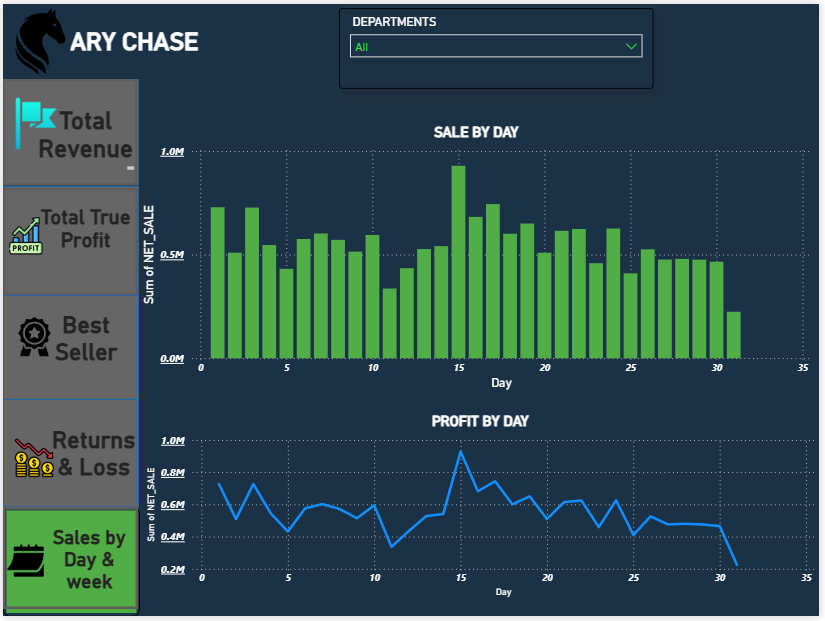

This screenshot's page, from the dashboard's own definition file:
{"tool":"powerbi","page":{"name":"SALES DAY AND WEKK","canvas":[960,720],"ordinal":4},"visuals":[{"type":"image","box":[0,0,88.4,88.4],"z":0},{"type":"textbox","title":"ARY CHASE","box":[74.6,27.6,168.8,34.4],"z":1000},{"type":"shape","box":[0,591.2,161.2,128.8],"z":2000},{"type":"shape","box":[0,88.4,159.6,125.2],"z":3000},{"type":"shape","box":[0,213.8,159.8,128.2],"z":4000},{"type":"shape","box":[0,342.2,160,130],"z":5000},{"type":"shape","box":[0,465,160,127.5],"z":6000},{"type":"textbox","title":"Total Revenue","box":[35.6,120.6,124,80.4],"z":7000},{"type":"image","box":[0,99.9,73.5,81.5],"z":8000},{"type":"textbox","title":"Total True Profit","box":[34.4,236.6,126.3,63.2],"z":9000},{"type":"image","box":[0,244.6,54,55.1],"z":10000},{"type":"textbox","title":"Best Seller","box":[31.4,361,132.1,92.9],"z":11000},{"type":"image","box":[0,360.6,73.5,62],"z":12000},{"type":"textbox","title":"Returns & Loss","box":[44.8,496.1,124,64.3],"z":13000},{"type":"image","box":[0,506.4,73.5,56.3],"z":14000},{"type":"textbox","title":"Sales by Day & week","box":[44.8,614.4,113.7,79.2],"z":15000},{"type":"image","box":[0,628.1,54,52.8],"z":16000},{"type":"actionButton","box":[0,88.4,158.5,125.2],"z":17000},{"type":"actionButton","box":[0,214.9,158.6,126],"z":18000},{"type":"actionButton","box":[0,592.2,158.9,120],"z":19000},{"type":"columnChart","title":"SALE BY DAY","fields":{"Y":["SQL Results.NET_SALE"],"Category":["SQL Results.EDATE.Variation.Date Hierarchy.Day"]},"box":[158.8,140,796.2,318.8],"z":20000},{"type":"lineChart","title":"PROFIT BY DAY","fields":{"Category":["SQL Results.EDATE.Variation.Date Hierarchy.Day"],"Y":["SQL Results.NET_SALE"]},"box":[163.8,480,796.2,222.5],"z":21000},{"type":"slicer","fields":{"Values":["SQL Results.DEPARTMENT"]},"box":[395,5,370,95],"z":22000}]}

Visuals, with their boxes in screenshot pixels (x1, y1, x2, y2), scaled from the page's 960x720 canvas onto the 825x621 screenshot:
image: crop(0, 0, 76, 76)
"ARY CHASE" textbox: crop(64, 24, 209, 53)
shape: crop(0, 510, 139, 620)
shape: crop(0, 76, 137, 184)
shape: crop(0, 184, 137, 295)
shape: crop(0, 295, 138, 407)
shape: crop(0, 401, 138, 511)
"Total Revenue" textbox: crop(31, 104, 137, 173)
image: crop(0, 86, 63, 156)
"Total True Profit" textbox: crop(30, 204, 138, 259)
image: crop(0, 211, 46, 258)
"Best Seller" textbox: crop(27, 311, 141, 391)
image: crop(0, 311, 63, 364)
"Returns & Loss" textbox: crop(38, 428, 145, 483)
image: crop(0, 437, 63, 485)
"Sales by Day & week" textbox: crop(38, 530, 136, 598)
image: crop(0, 542, 46, 587)
actionButton: crop(0, 76, 136, 184)
actionButton: crop(0, 185, 136, 294)
actionButton: crop(0, 511, 137, 614)
"SALE BY DAY" columnChart: crop(136, 121, 821, 396)
"PROFIT BY DAY" lineChart: crop(141, 414, 824, 606)
slicer - SQL Results.DEPARTMENT: crop(339, 4, 657, 86)
